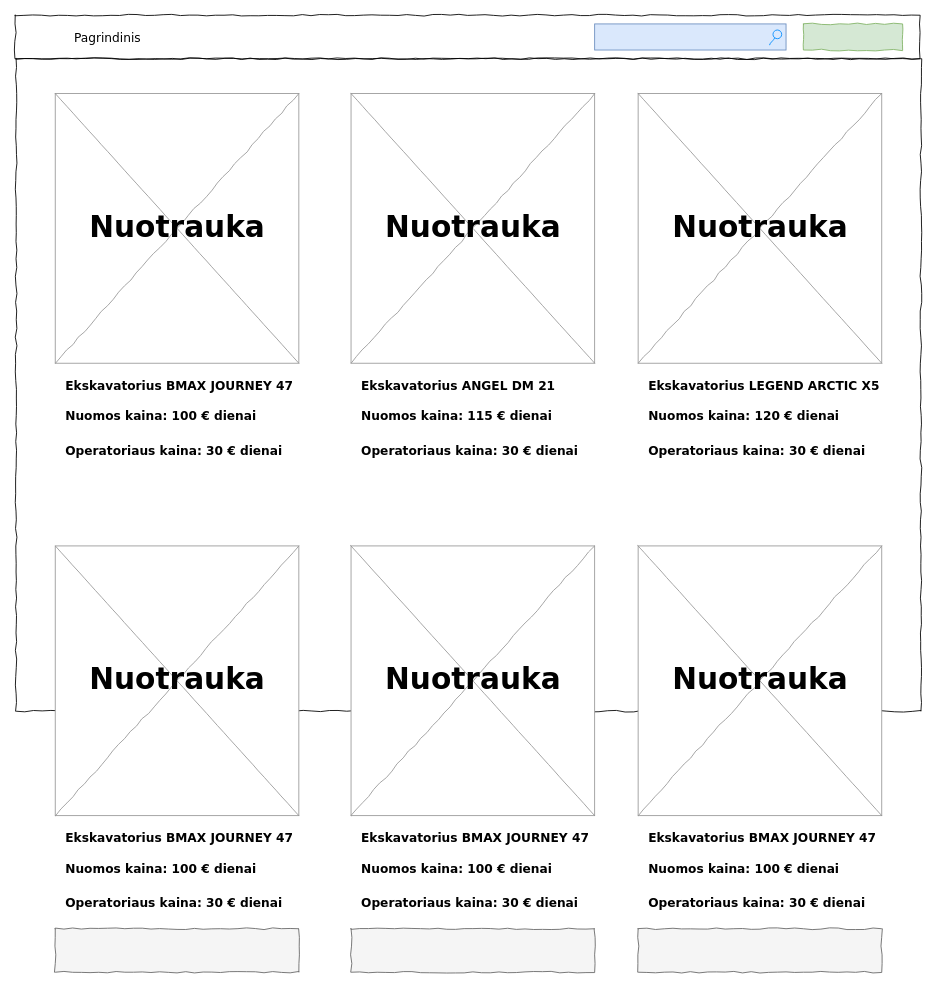
Some shapes in this 936 by 987 pixel diagram are drawn without their labels. Here are the shapes that lost their labels. From the top down, the centre of each, then its label:
At point (690, 36): "Ekskavatorius".
At point (853, 36): "Atsijungti".
